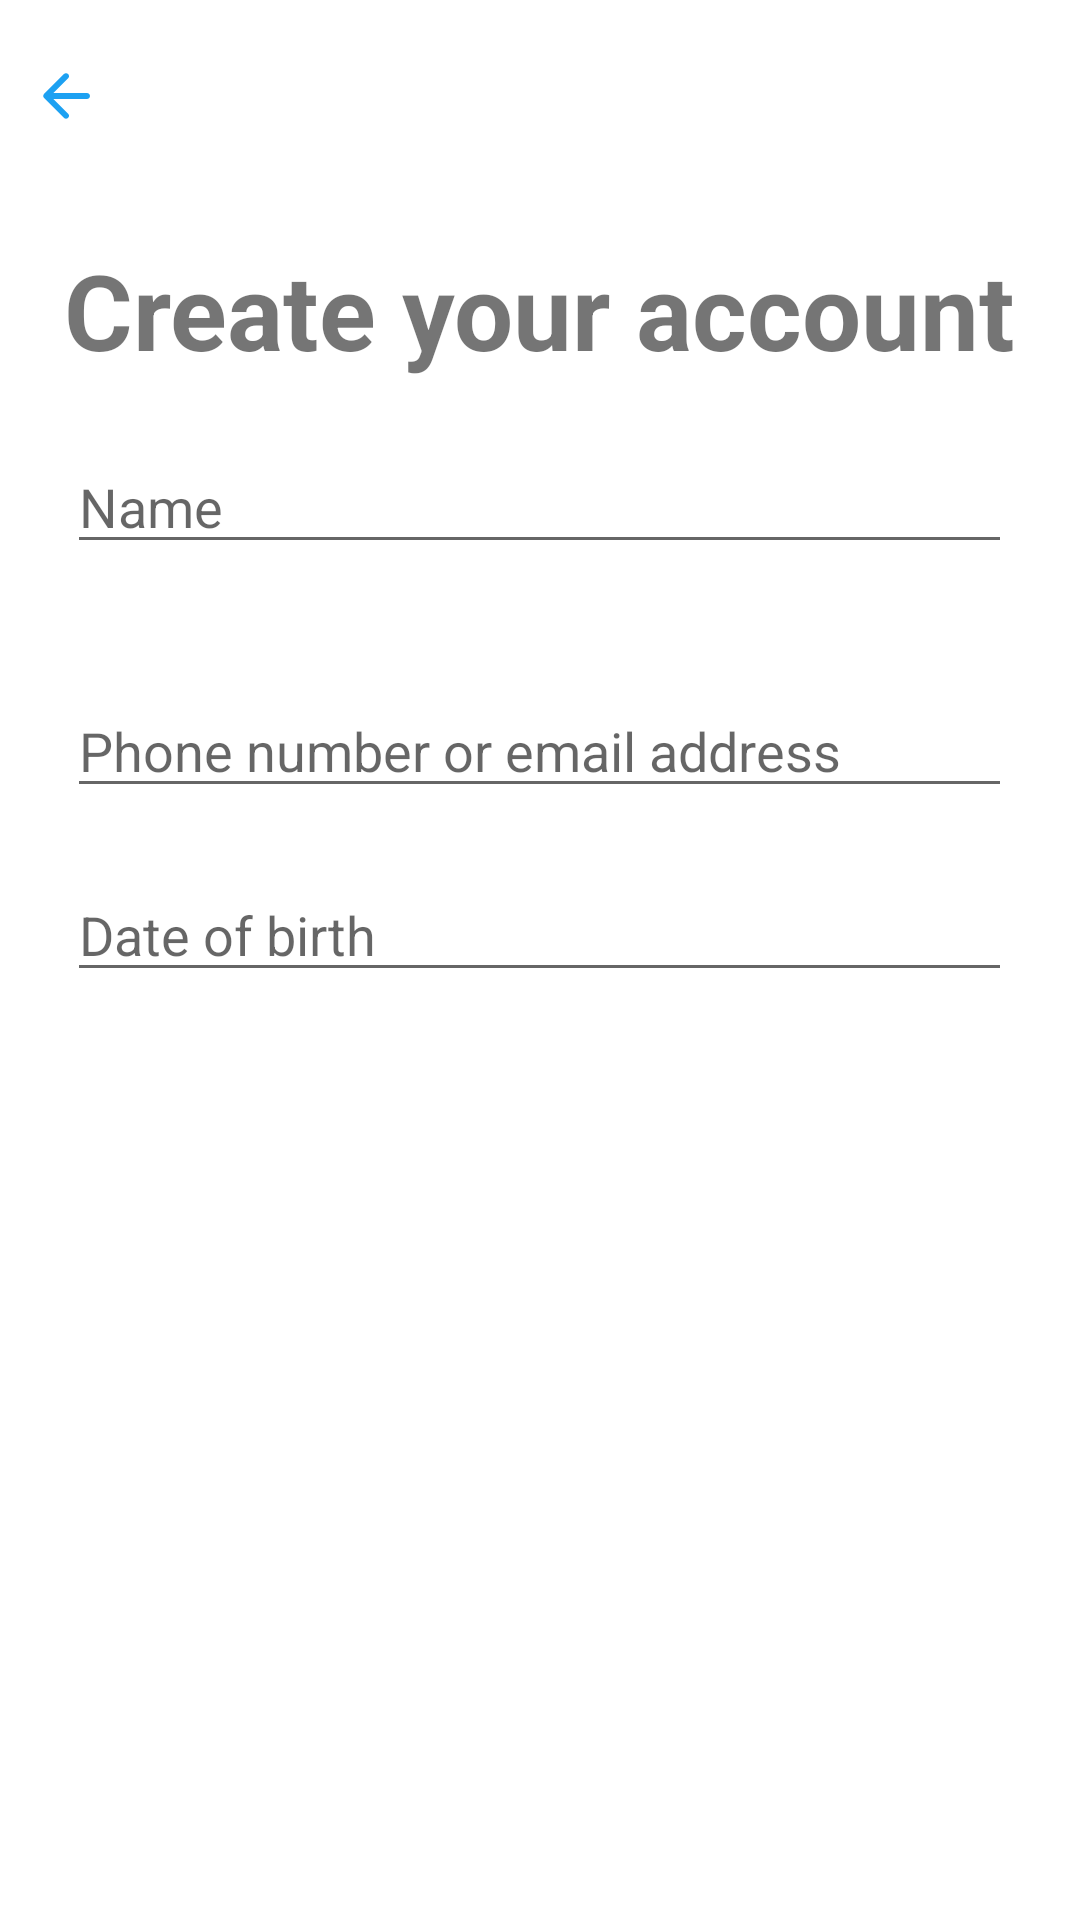

Named icons in this screenshot (1080px×1920px) and their centers, (x=x, y=y):
arrow back: (x=66, y=96)
